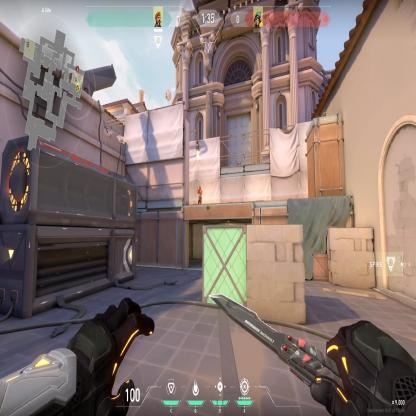enemy: (196, 183, 203, 204)
